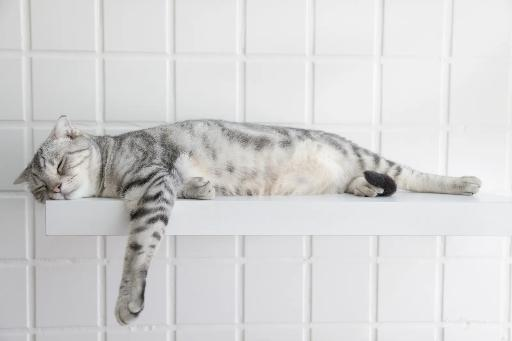cat_sleeping: (13, 115, 482, 325)
